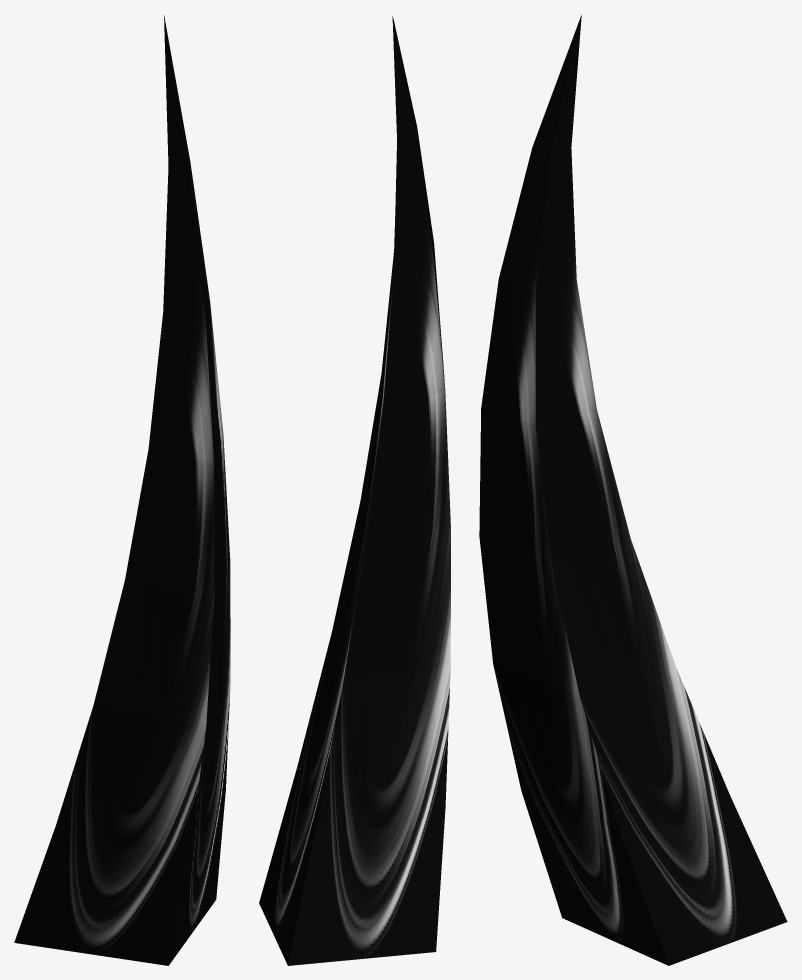
Rendered from 0412_shengjian.glb.
The picture shows the model from 3 angles, left to right: view 1: azimuth 30°, elevation 25°; view 2: azimuth 150°, elevation 25°; view 3: azimuth 270°, elevation 25°; orthographic projection. The views are drawn at different scales.
Bounding box in the file's own units: 0.478 × 2.2 × 0.6776.
Materials: 1 (1 with a texture image).
